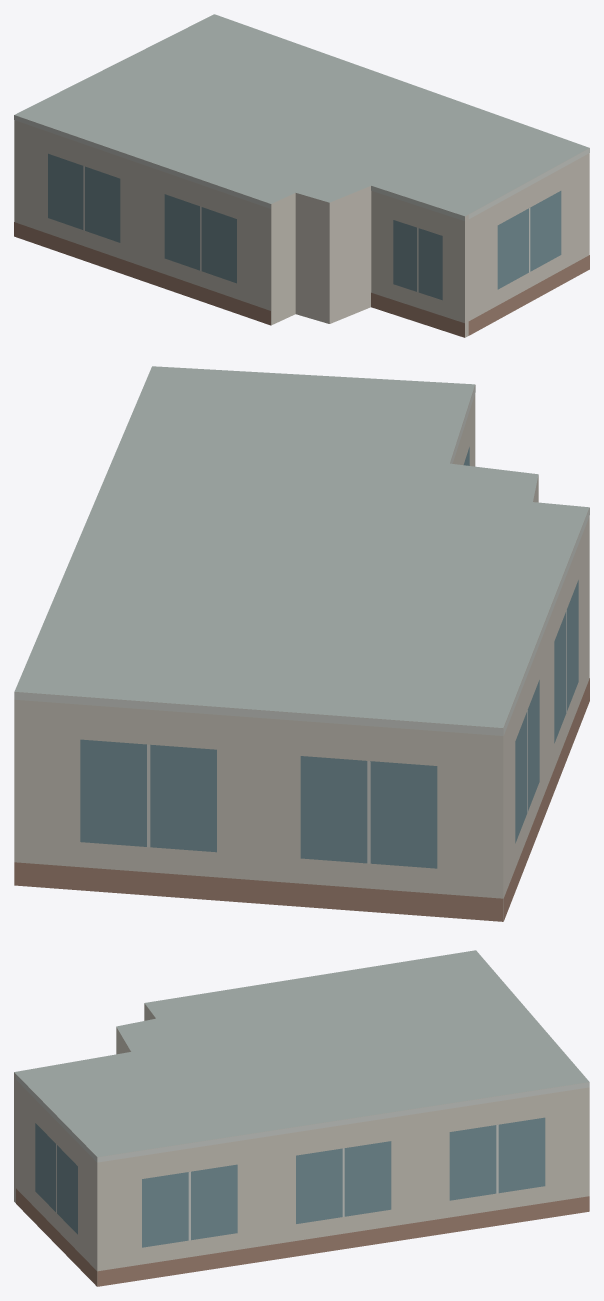
File: survey-upis-33043942.glb
3 views of the same model, one above another, from view 1: azimuth 30°, elevation 25°; view 2: azimuth 150°, elevation 25°; view 3: azimuth 270°, elevation 25° (orthographic). The views are drawn at different scales.
Visible parts, largest first — view 1: survey-upis-33043942.tmp; view 2: survey-upis-33043942.tmp; view 3: survey-upis-33043942.tmp.
Part boxes in pixels (x1,y1,x2,y2): survey-upis-33043942.tmp: (14, 14, 589, 337); survey-upis-33043942.tmp: (14, 366, 589, 921); survey-upis-33043942.tmp: (14, 950, 589, 1286).
Bounding box in the file's own units: 10.47 × 3.05 × 12.3.
